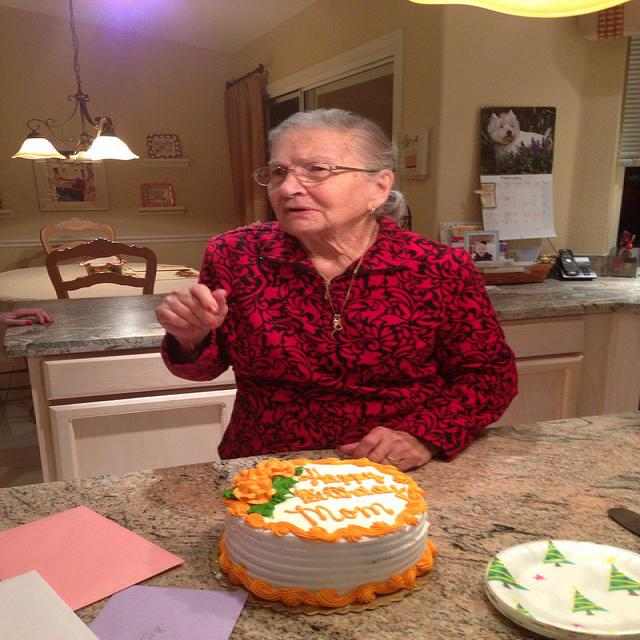chair: (45, 235, 162, 301), (38, 217, 116, 254)
dining table: (1, 262, 199, 300)
